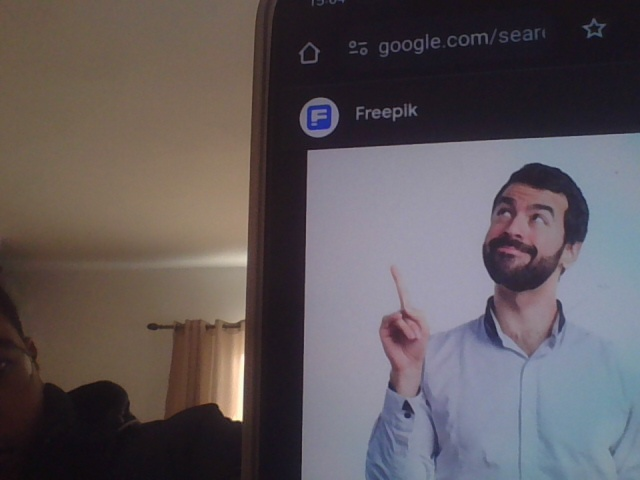fake: (474, 139, 583, 293)
